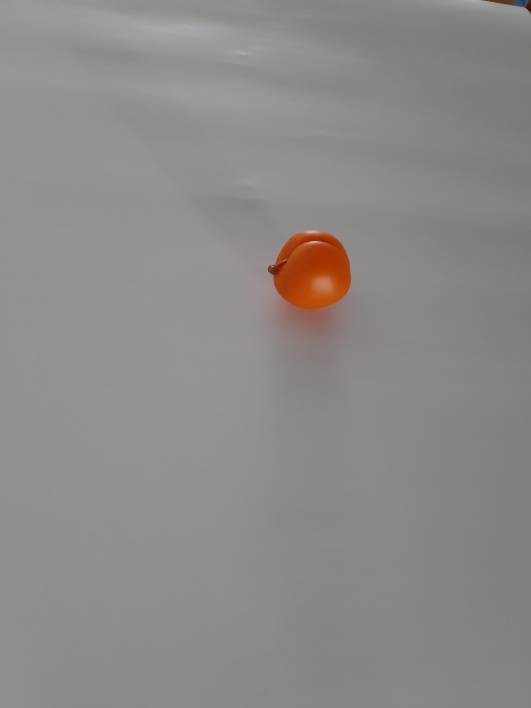apricot: (249, 216, 373, 337)
